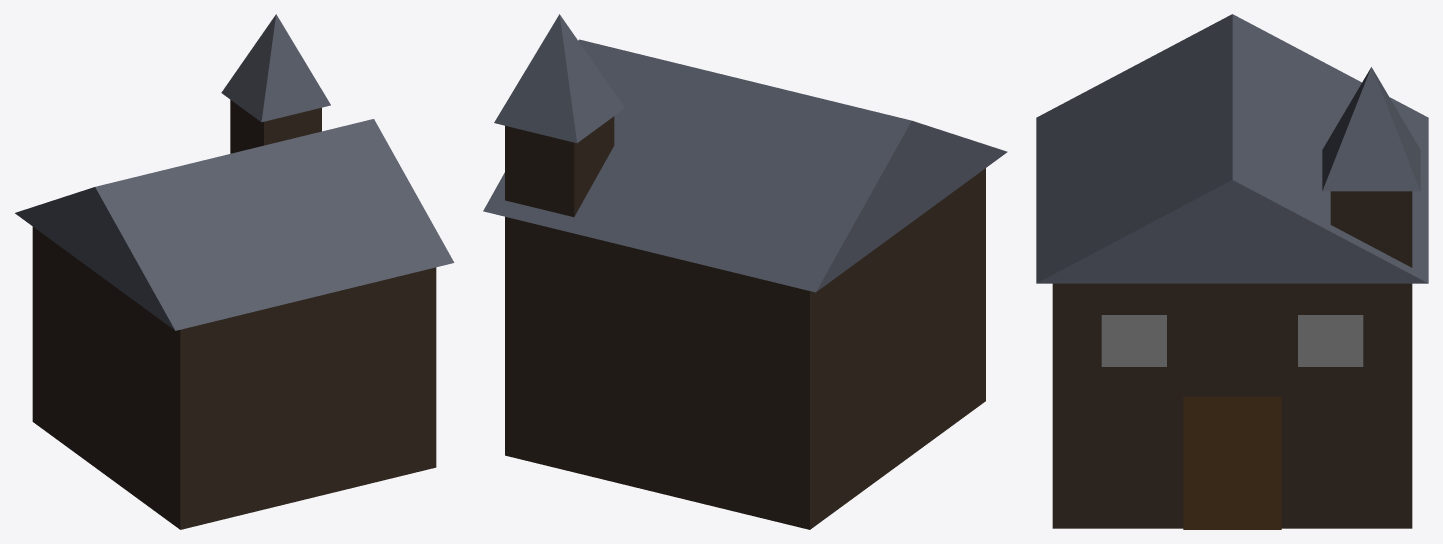
File: haunted_house.obj
3 views of the same model, side by side, from view 1: azimuth 30°, elevation 25°; view 2: azimuth 150°, elevation 25°; view 3: azimuth 270°, elevation 25° (orthographic). The views are drawn at different scales.
Bounding box in the file's own units: 4.8 × 6 × 4.8.
